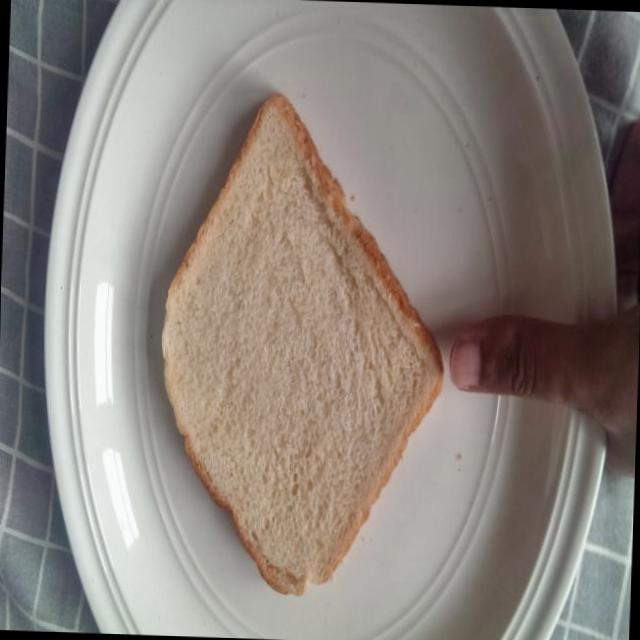Bread: (132, 74, 460, 609)
Finger: (443, 303, 548, 411)
